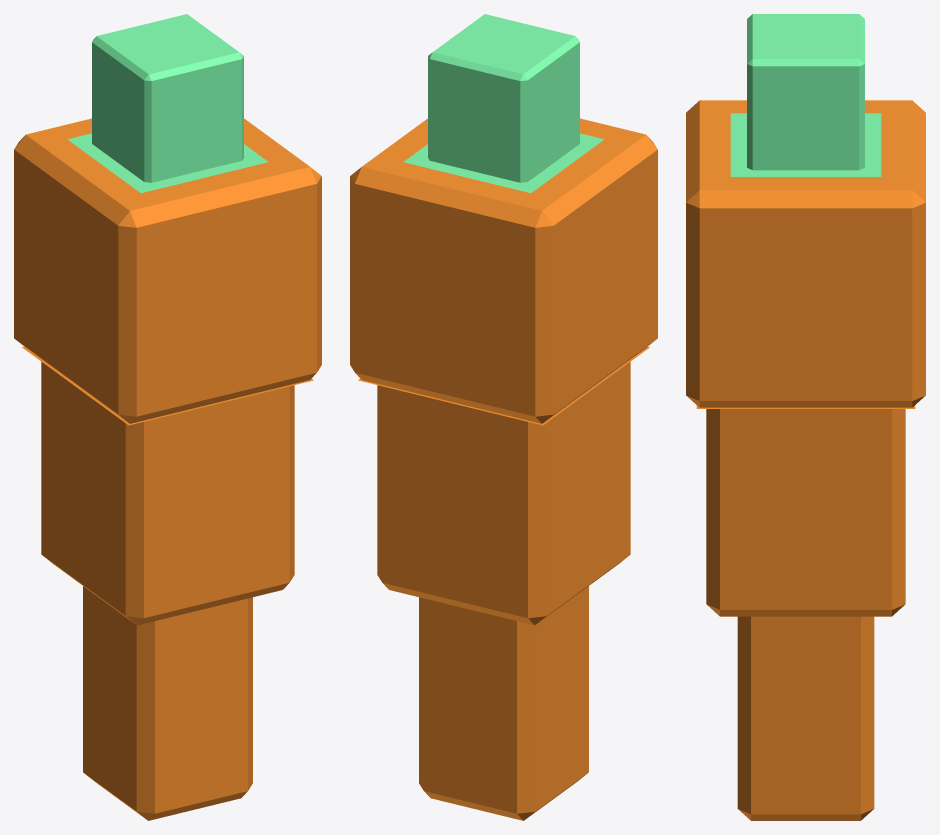
The model's file is carrot.fbx.
The picture shows the model from 3 angles, left to right: view 1: azimuth 30°, elevation 25°; view 2: azimuth 150°, elevation 25°; view 3: azimuth 270°, elevation 25°; orthographic projection. The views are drawn at different scales.
Parts seen in each view (by area): view 1: carrot; view 2: carrot; view 3: carrot.
Boxes of the visible parts, <box> form: carrot: <box>14,14,321,820</box>; carrot: <box>350,14,657,820</box>; carrot: <box>686,14,925,820</box>.
Size of the model in its own units: 200 by 200 by 700.
